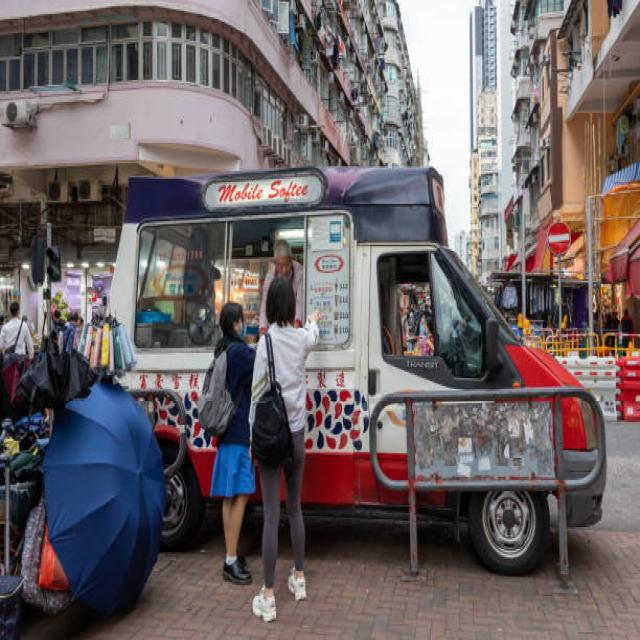Emperan: (84, 157, 620, 580)
